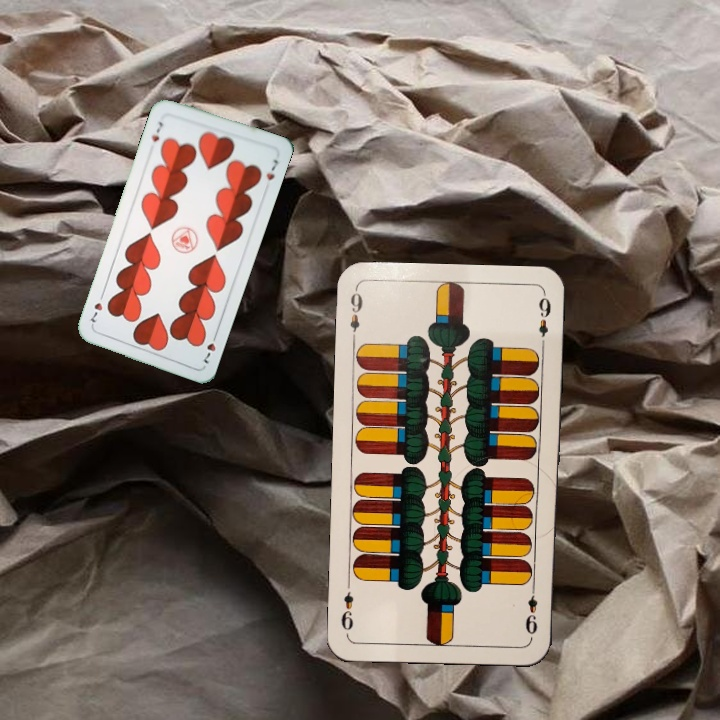E9: (345, 286, 365, 345), (521, 581, 540, 640)
H7: (199, 329, 220, 366), (147, 118, 166, 144)
